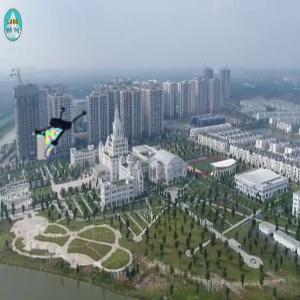drone: (32, 94, 98, 160)
